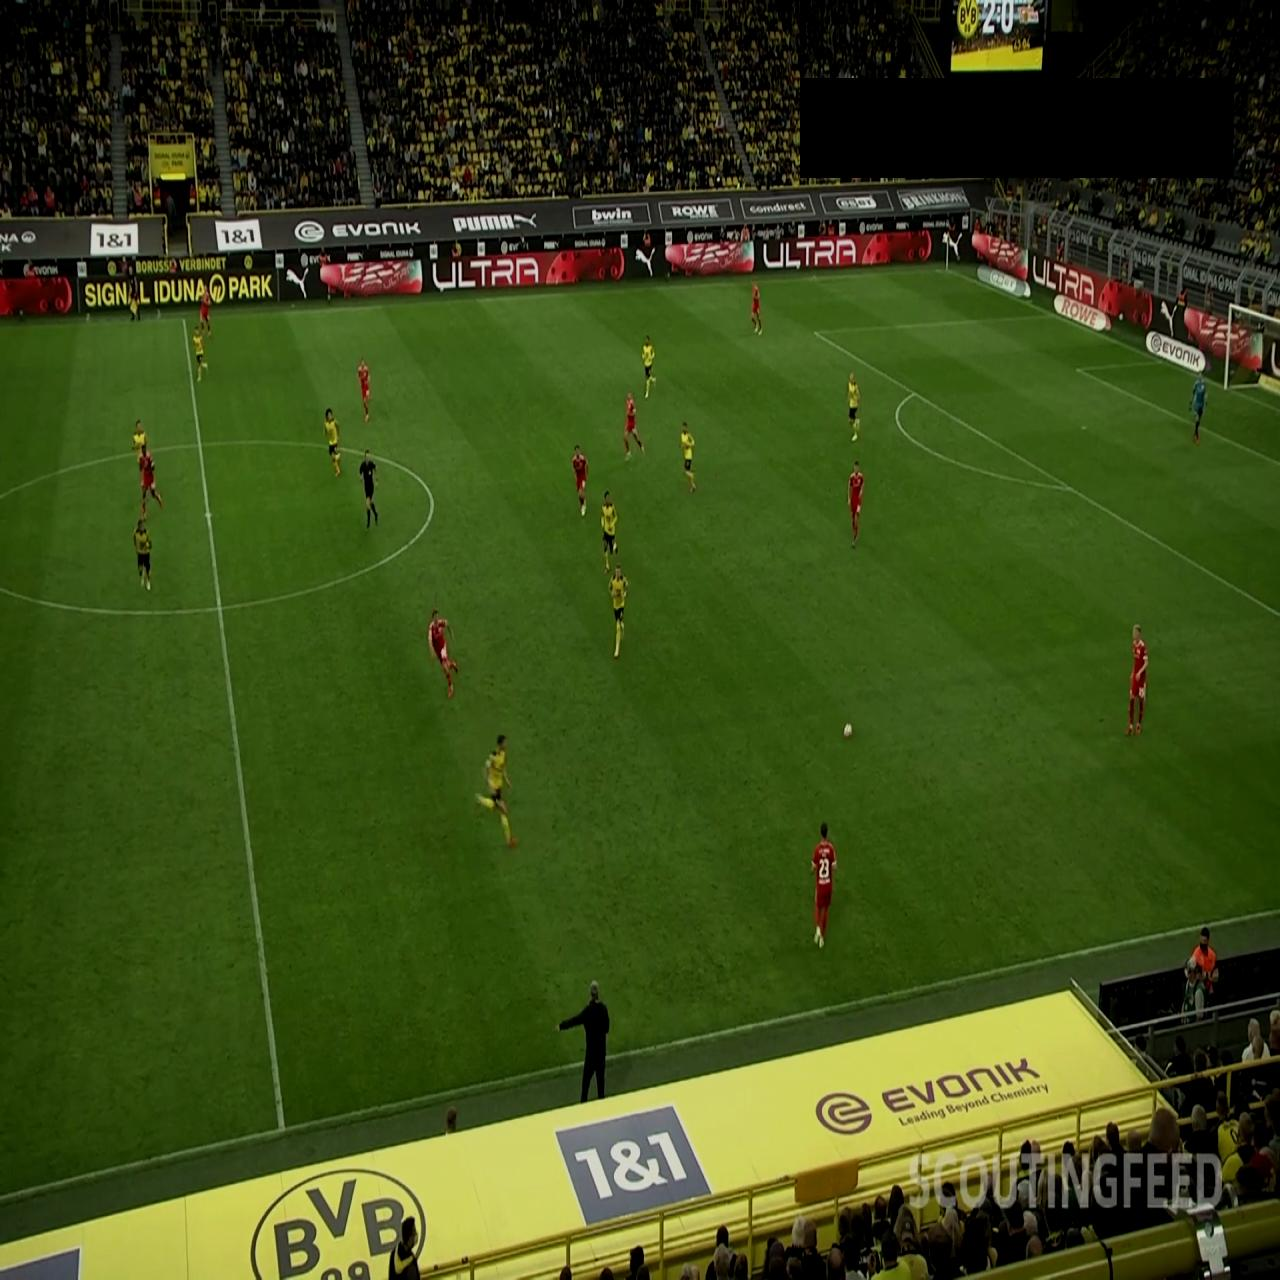ball: (843, 723, 853, 738)
goalkeeper: (1190, 374, 1208, 444)
player: (478, 734, 517, 848), (811, 820, 837, 949), (1124, 624, 1148, 738), (428, 608, 458, 698), (389, 1214, 421, 1278), (609, 563, 629, 659), (138, 448, 163, 519), (847, 458, 864, 548), (623, 391, 645, 460), (601, 489, 618, 575), (133, 518, 153, 591), (679, 420, 697, 494), (324, 408, 342, 478), (572, 443, 588, 517), (641, 334, 656, 400), (847, 372, 861, 441), (357, 358, 371, 423), (193, 324, 207, 382), (199, 283, 212, 338), (132, 418, 147, 461), (751, 282, 762, 335)
referee: (359, 447, 379, 530), (128, 262, 142, 322)
